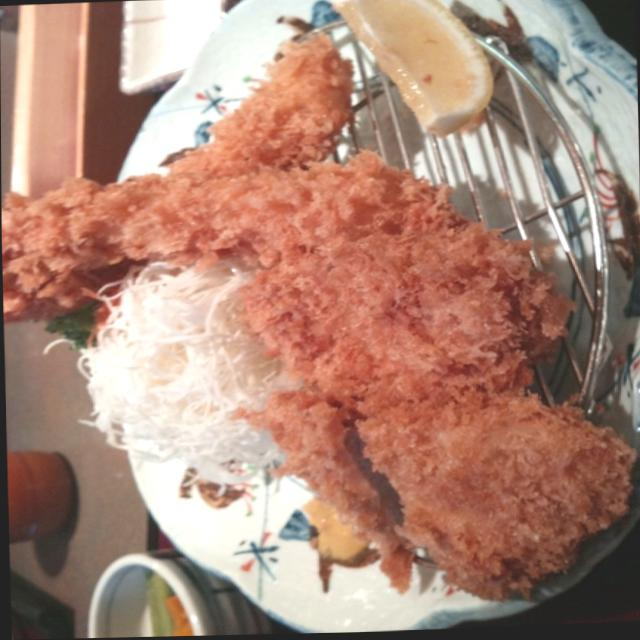牛肉菜式: (5, 24, 640, 606)
